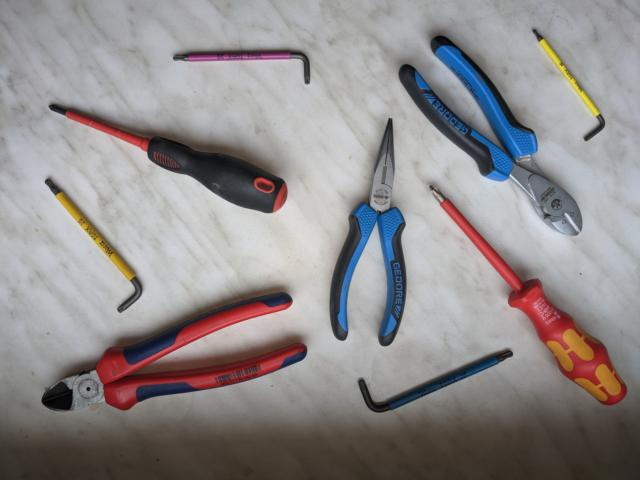Inbusschlüssel: (40, 174, 146, 316), (355, 345, 517, 415), (528, 25, 608, 143), (169, 44, 313, 87)
Schraubendreher: (425, 181, 630, 409), (45, 100, 290, 217)
Seitenschneider: (397, 33, 589, 241), (38, 287, 310, 418)
Zange: (326, 116, 414, 349)
